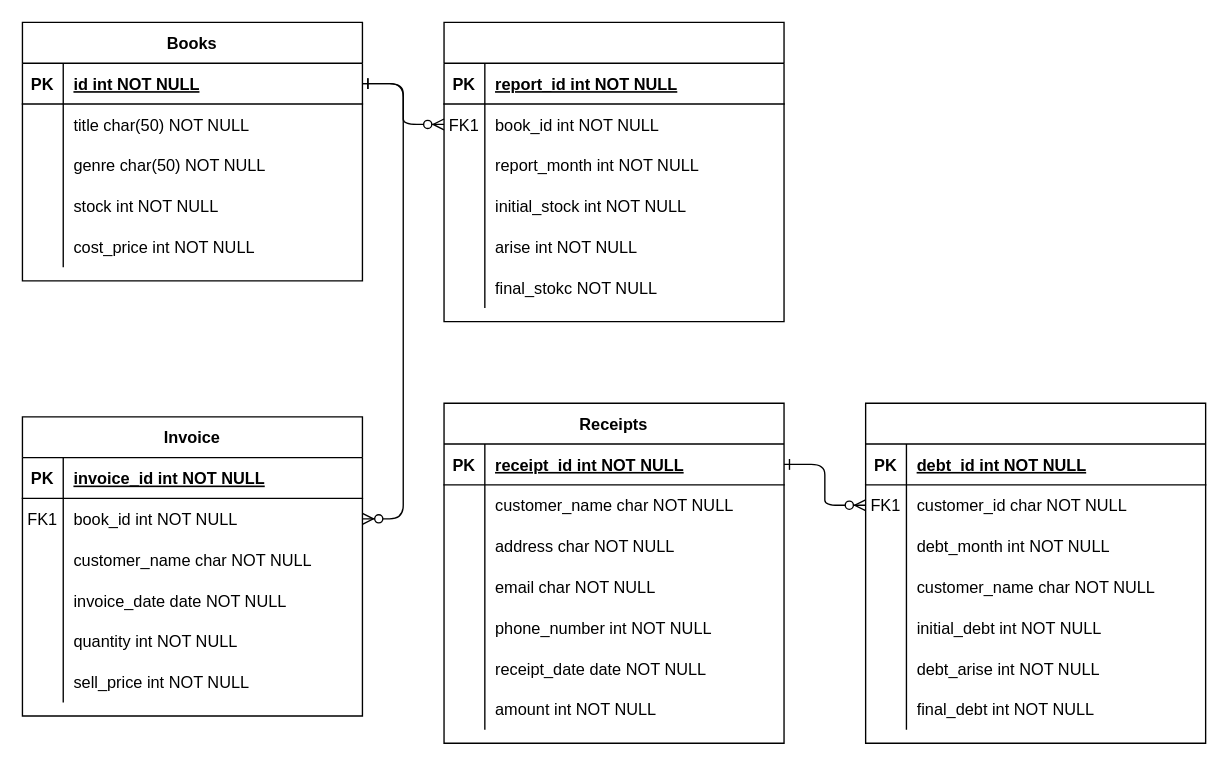
The diagram is 1228 pixels wide and 766 high, and some of its shapes have lost their labels. Here are the shapes that lost their labels. From the top down, the box of each, then its label:
(443, 21, 784, 322): Inventory Reports
(864, 402, 1206, 743): Debt Reports
